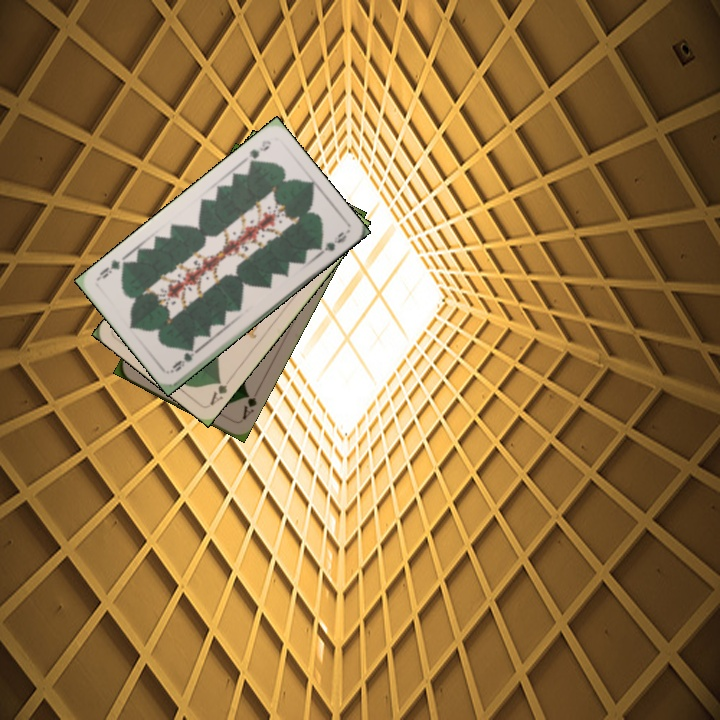G9: (167, 345, 202, 375), (244, 136, 274, 168)
GA: (205, 375, 230, 408), (238, 388, 259, 422)
